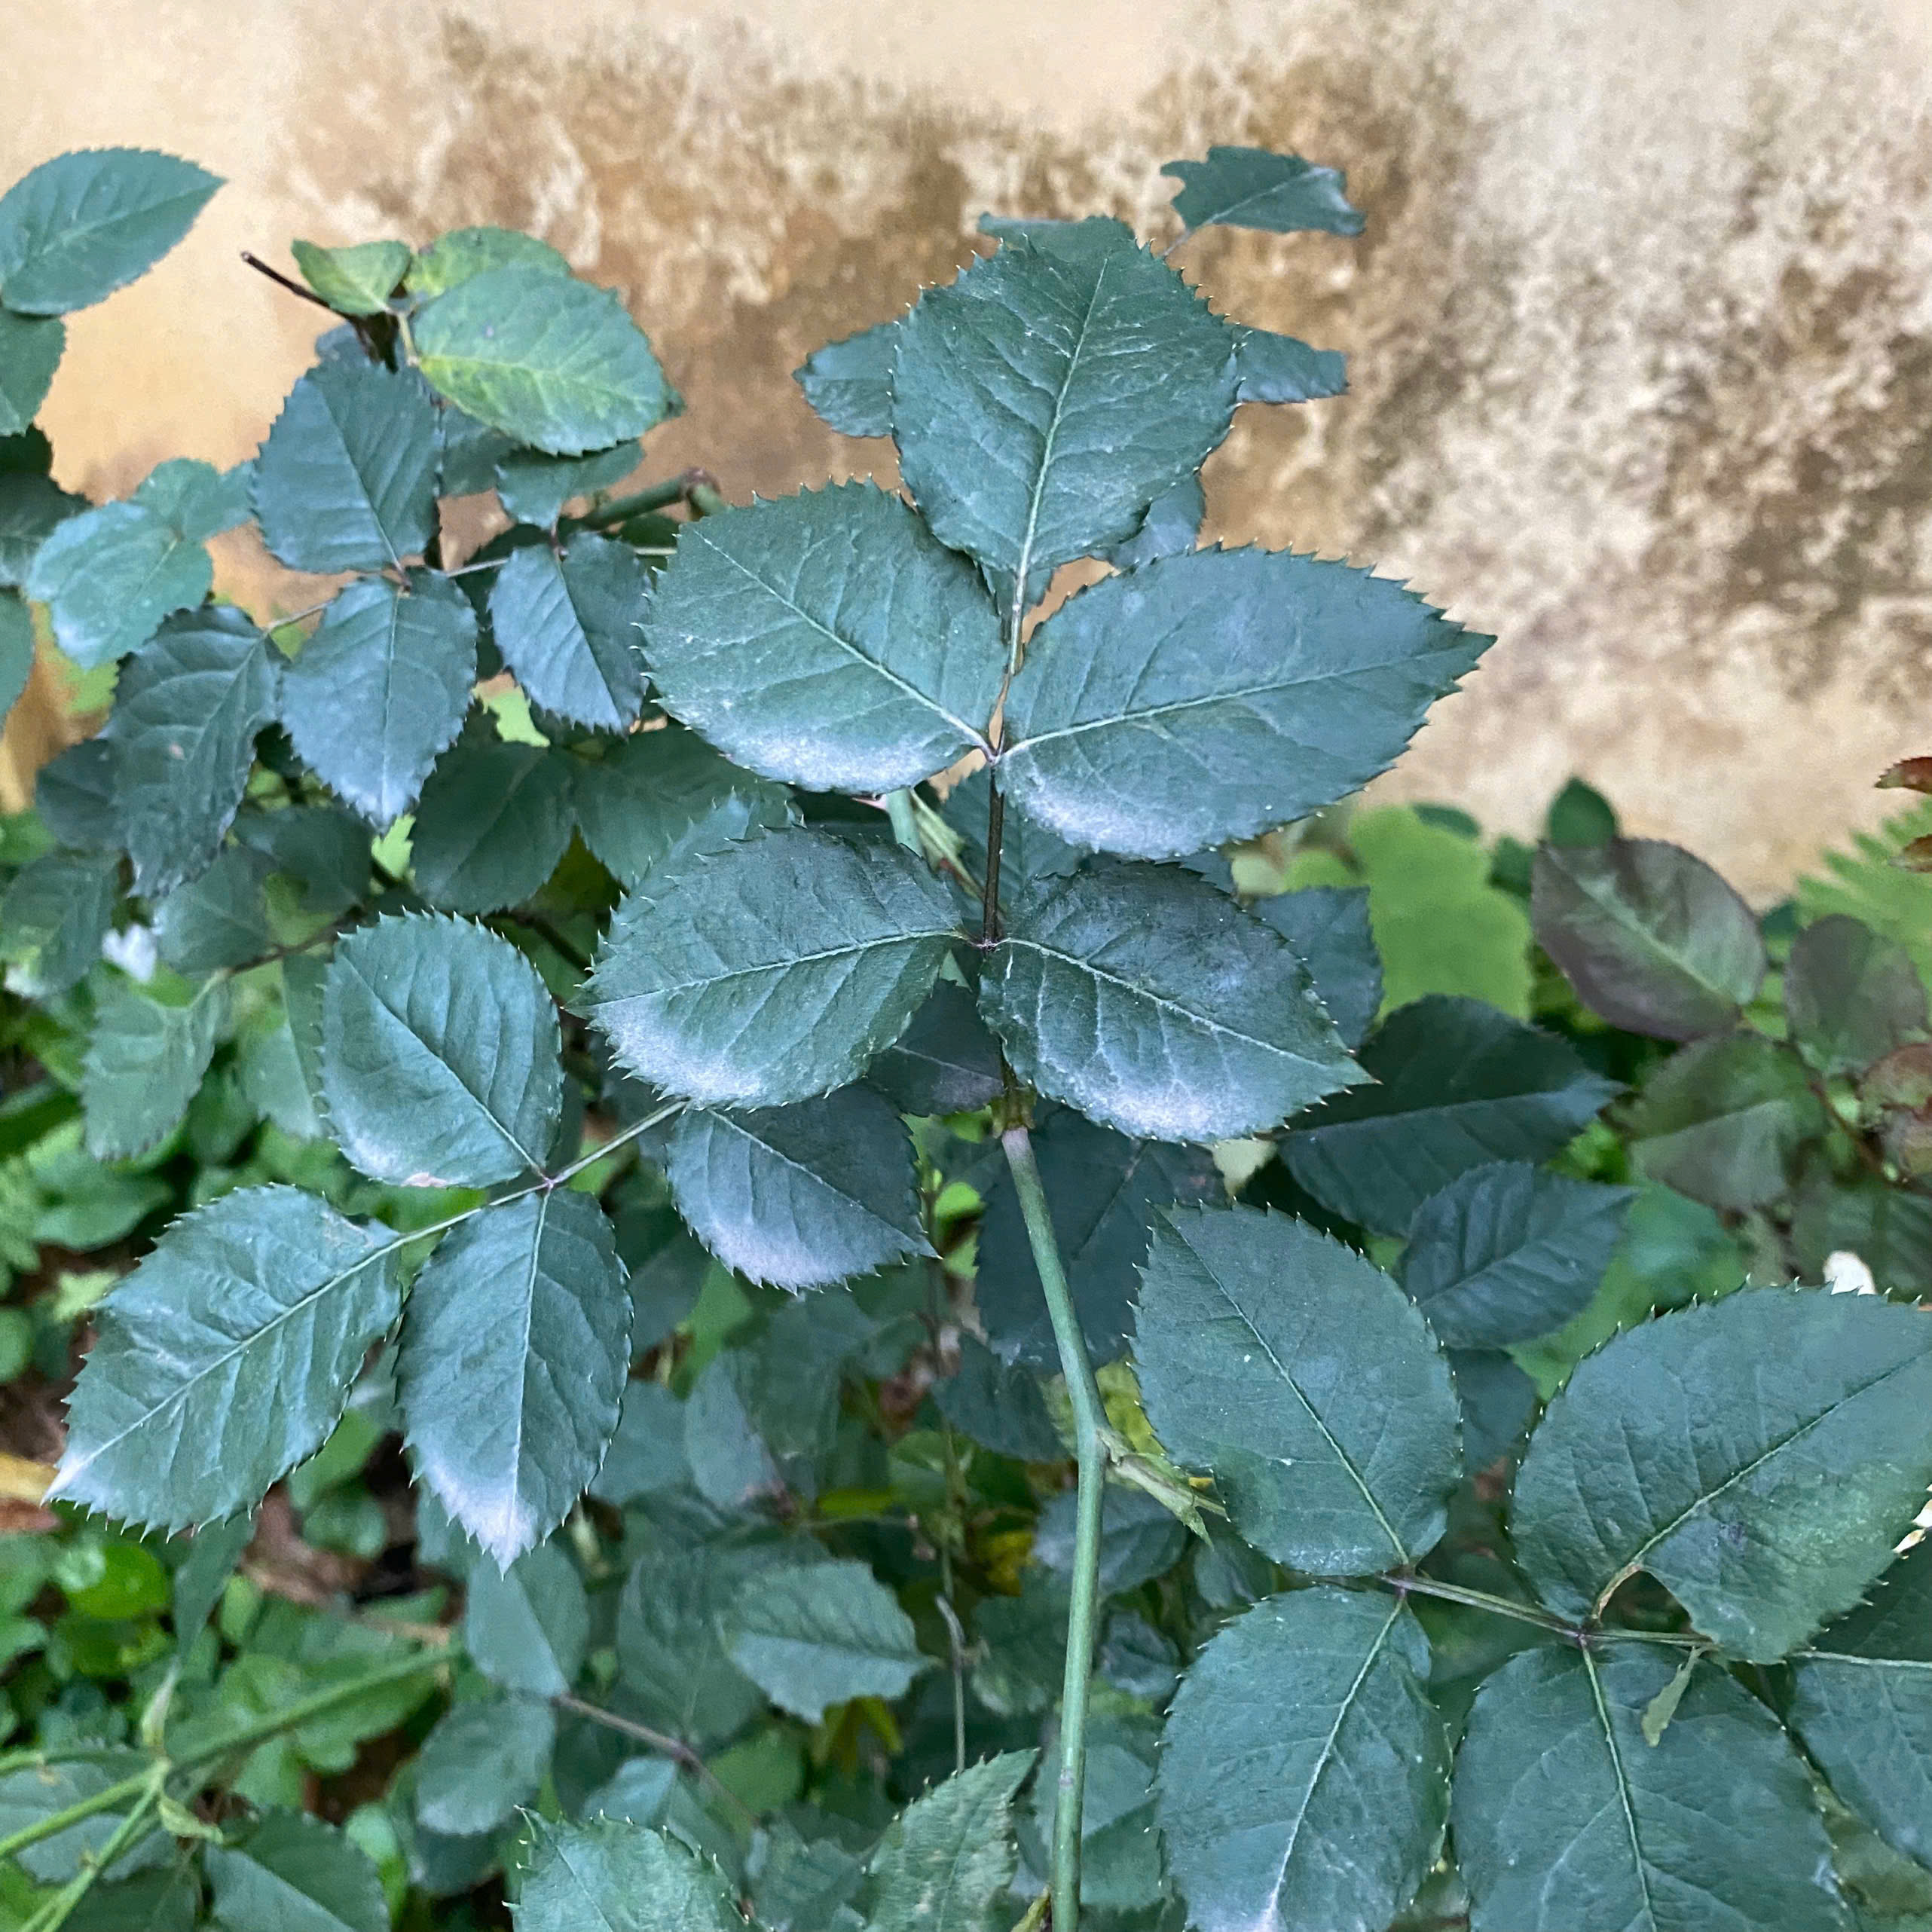hoa_thuoc_duoc: (0, 142, 1847, 1752)
